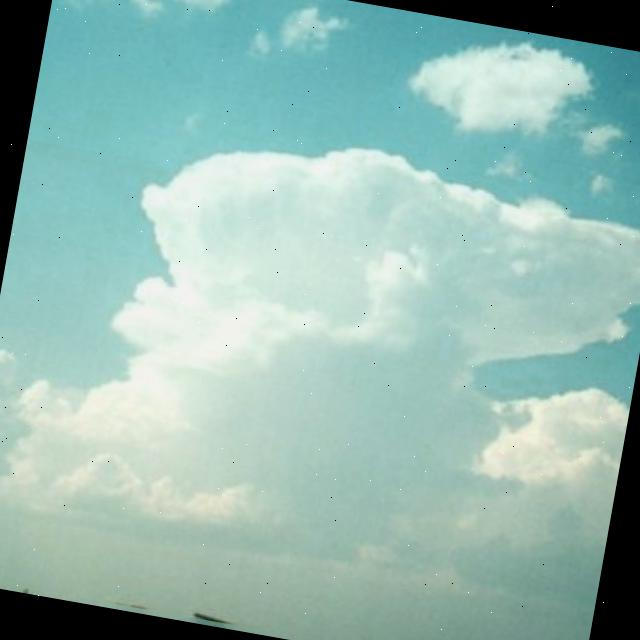Cb: (1, 88, 640, 633)
